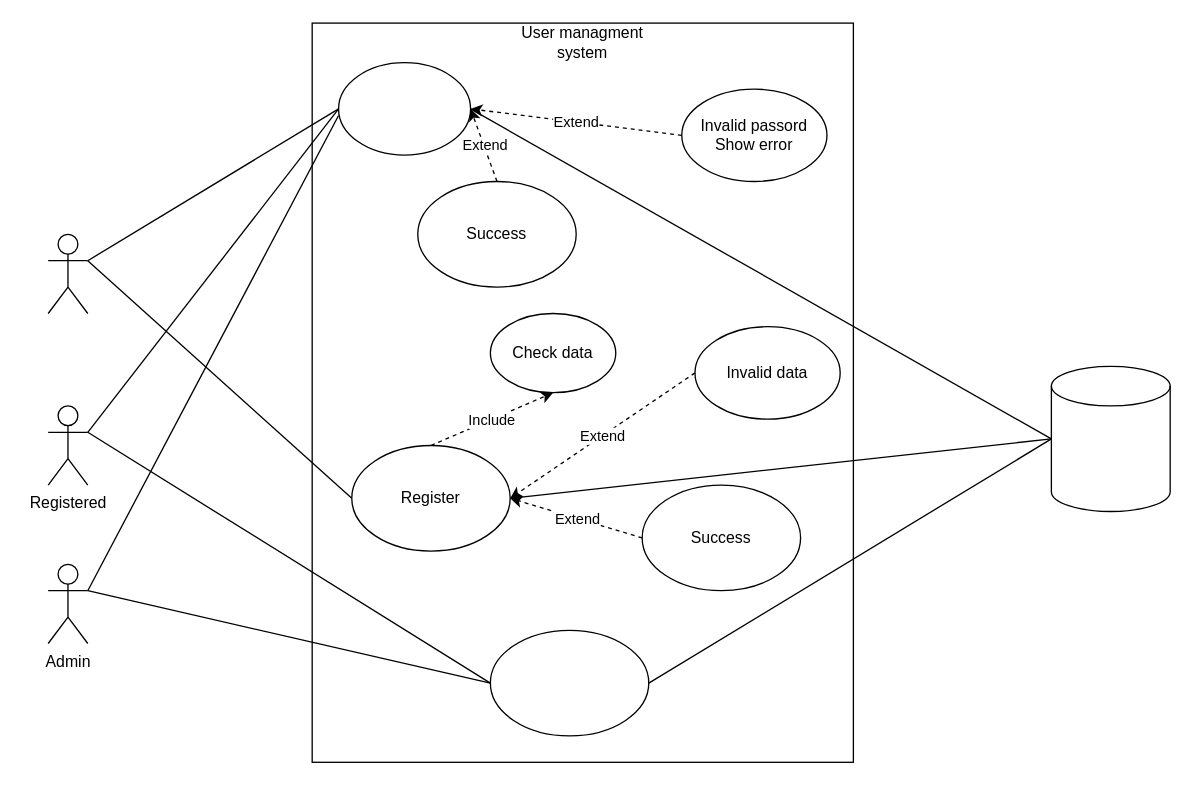
The diagram is 1193 pixels wide and 785 high, and some of its shapes have lost their labels. Here are the shapes that lost their labels. From the top down, the box of each, then its label:
(337, 61, 471, 155): Log In
(47, 233, 88, 314): Unregistered
(1050, 365, 1170, 512): User database
(489, 629, 649, 736): Log Out
